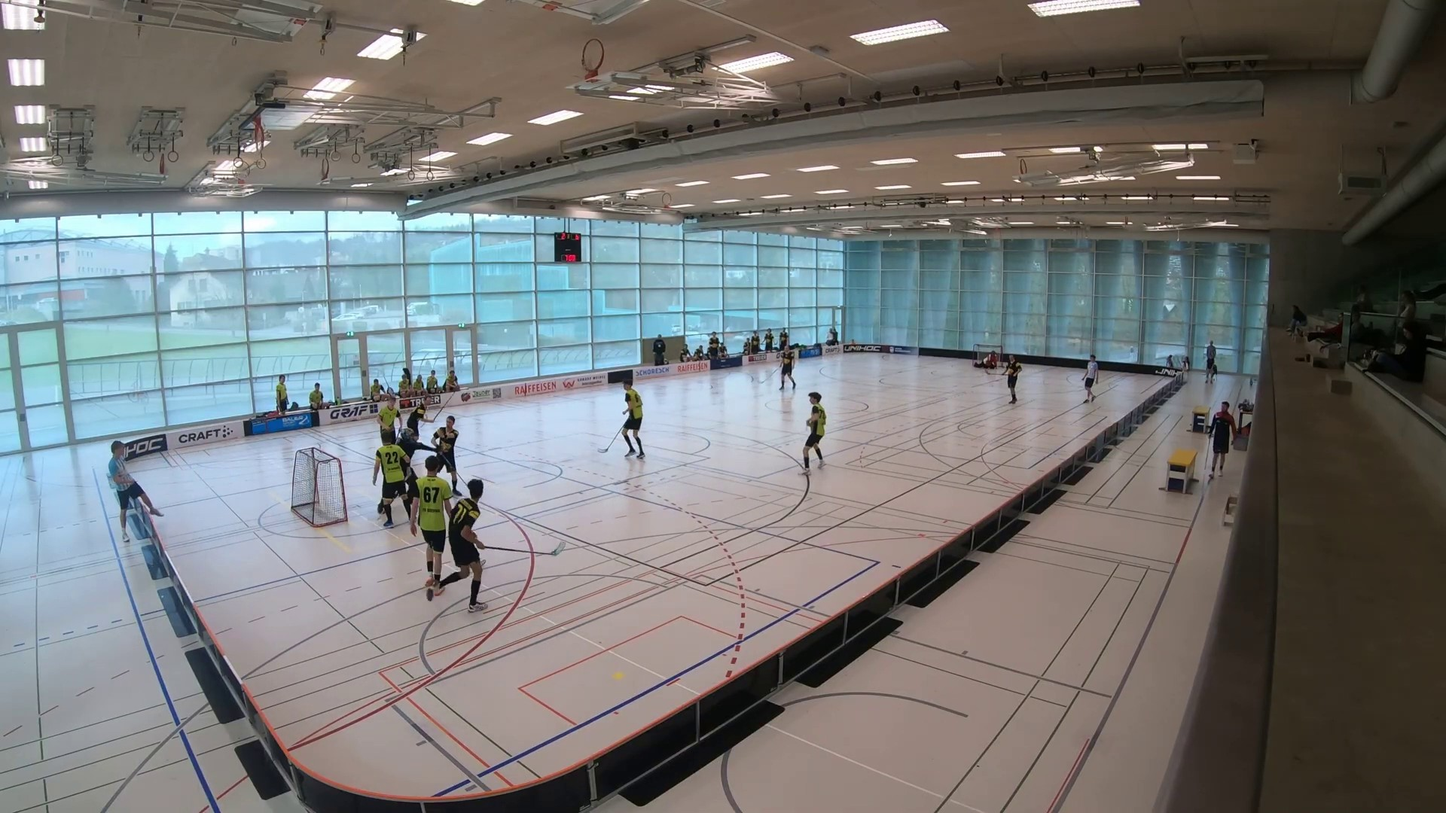goalkeeper: (395, 424, 448, 509), (973, 351, 998, 370)
player: (441, 479, 487, 611), (410, 455, 451, 600), (372, 428, 410, 526), (432, 416, 459, 489), (621, 379, 645, 459), (803, 391, 826, 474), (406, 398, 434, 437), (378, 394, 398, 443), (1004, 355, 1021, 403), (779, 346, 795, 389)
